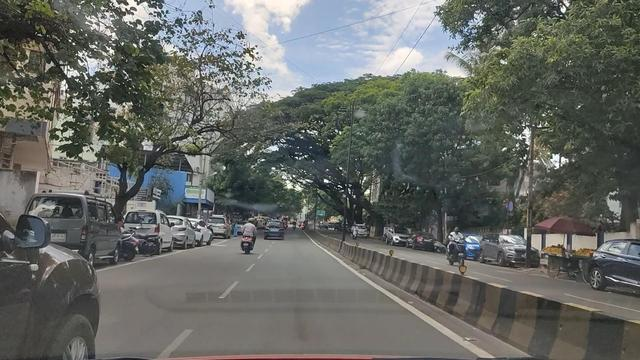LMV: (43, 196, 125, 259), (237, 215, 261, 256)
